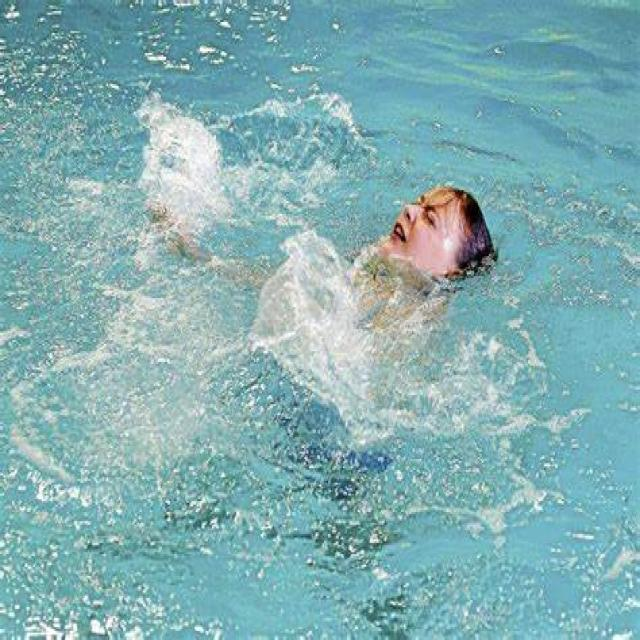Drowning: (143, 138, 501, 314)
